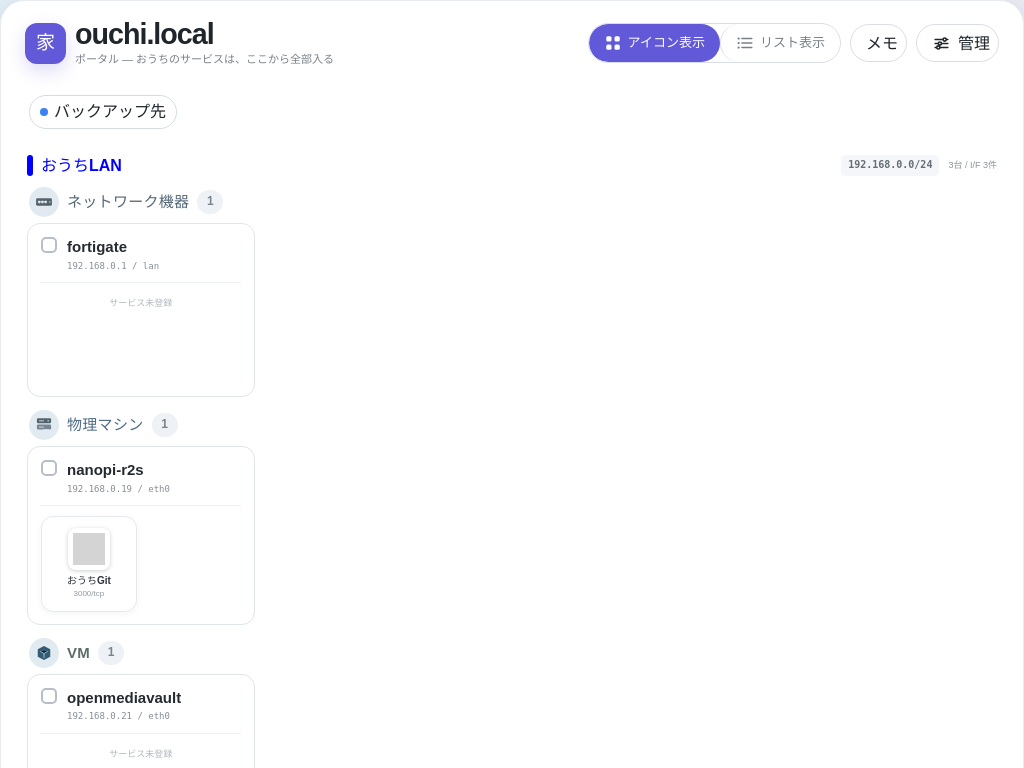
OuchiPortal › shows device cascade counts in the deletion confirmation
Click the button "管理": (958, 43) [916,24,999,62]
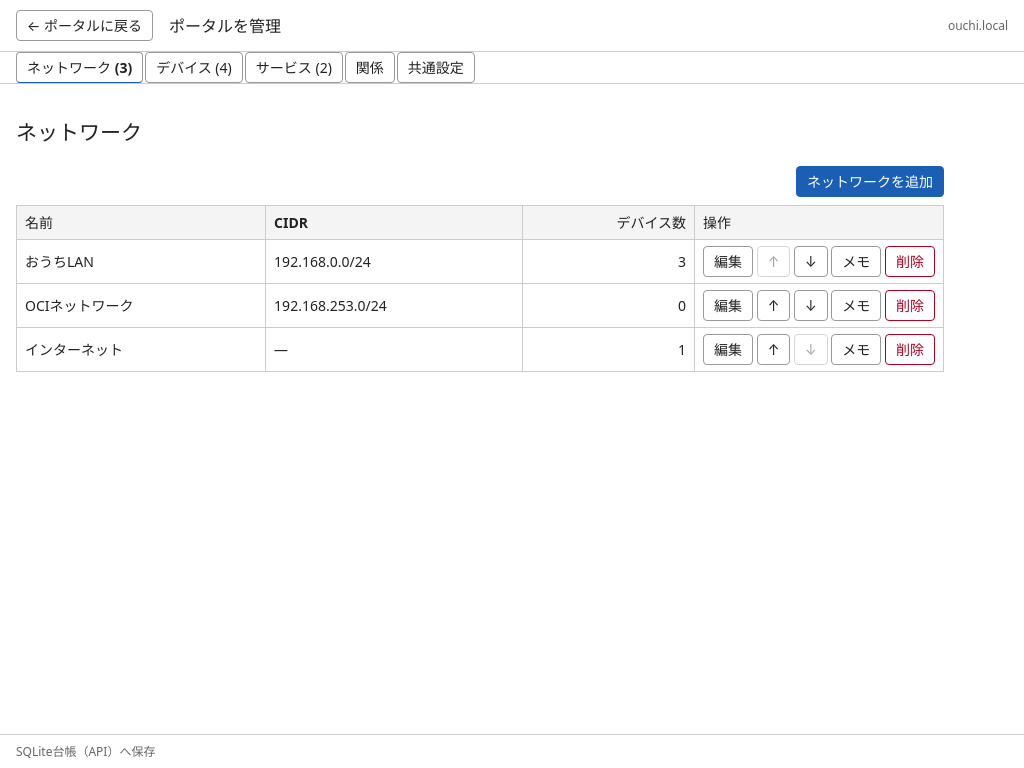
Click the tab "デバイス (4)": (194, 68) [145,52,243,83]
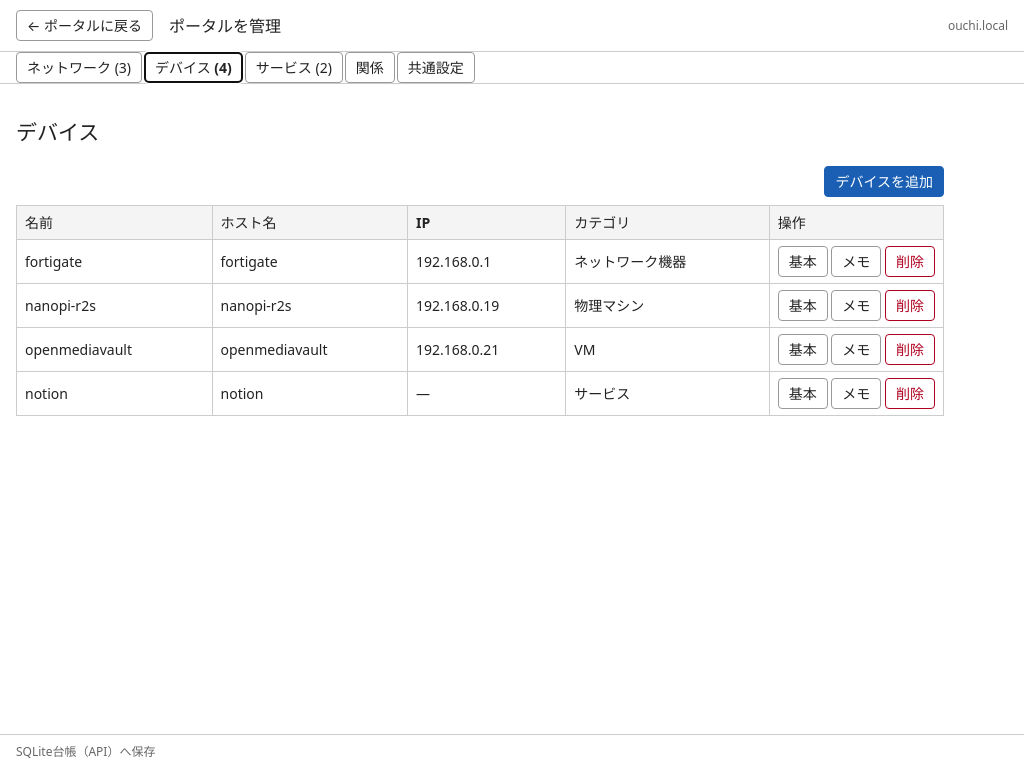
Click the button with aria-label "nanopi-r2sを削除": (910, 306) [885,290,935,321]
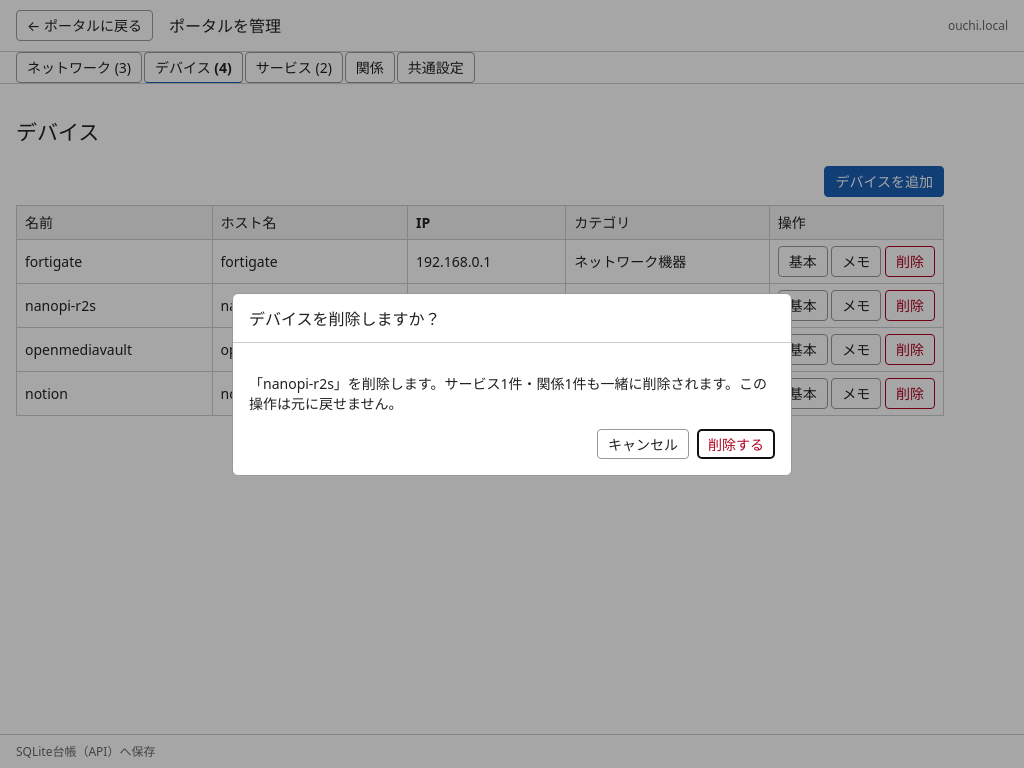
Expected: the text "「nanopi-r2s」を削除します。サービス1件・関係1件も一緒に削除されます。この操作は元に戻せません。" is shown, [249,372,775,412]
Click the button "削除する": (736, 444) [697,428,775,458]
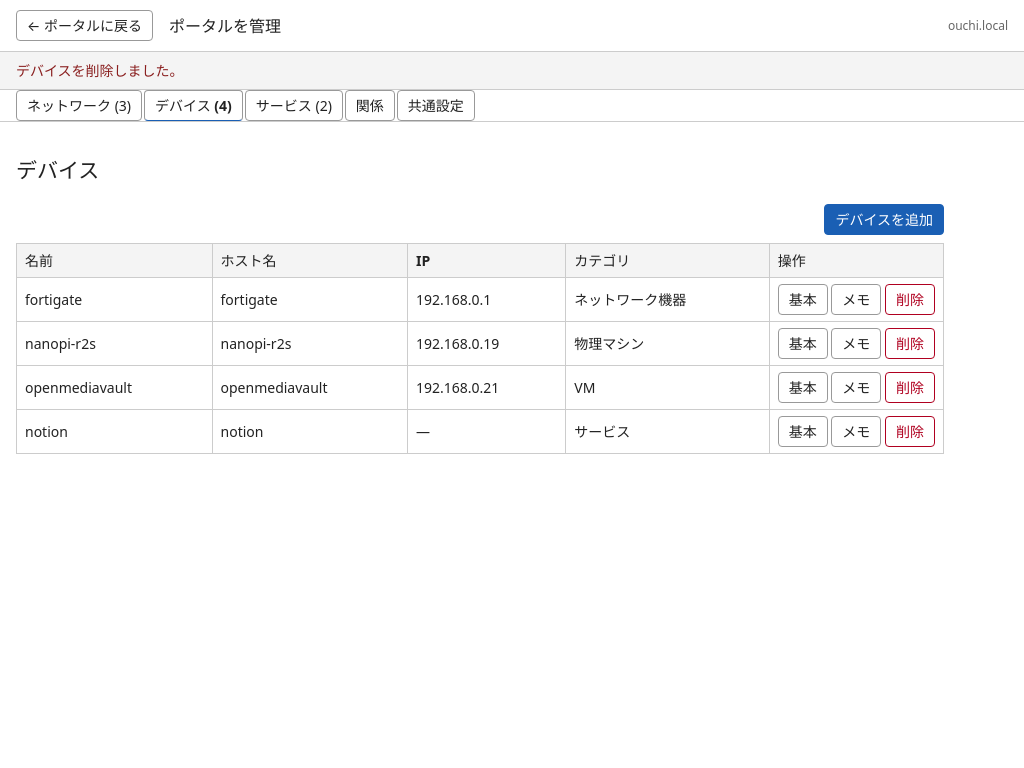
Expected: the heading "デバイスを削除しますか？" is gone
